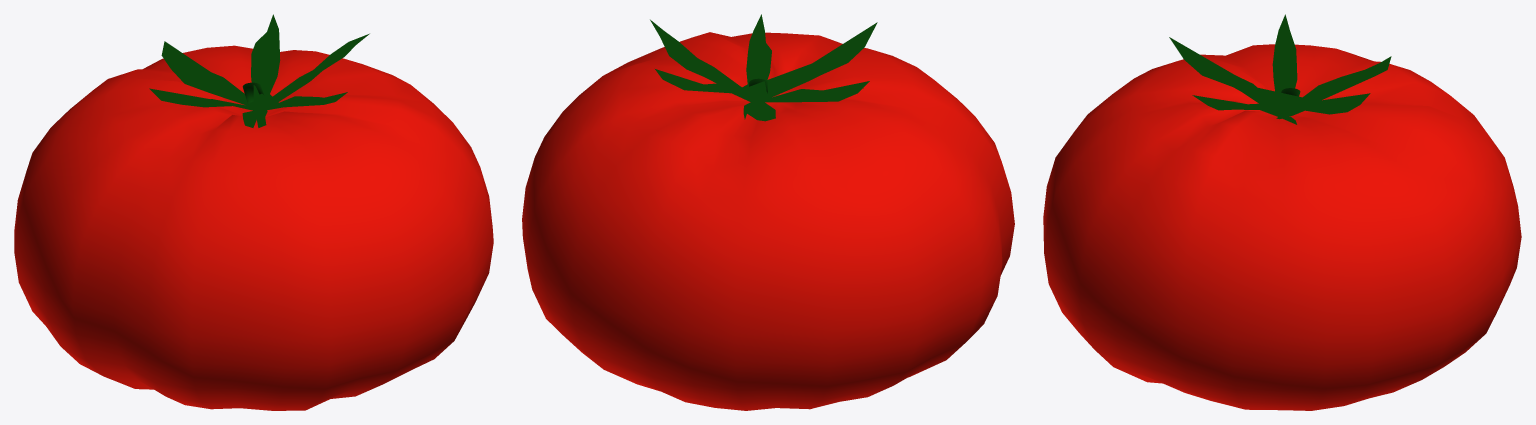
The model's file is tomato.fbx.
3 renders of one model, left to right at view 1: azimuth 30°, elevation 25°; view 2: azimuth 150°, elevation 25°; view 3: azimuth 270°, elevation 25°, orthographic. The views are drawn at different scales.
Visible parts, largest first — view 1: 球, 球.001; view 2: 球, 球.001; view 3: 球, 球.001.
Part boxes in pixels (left/top/right/bottom): 球: left=14, top=45, right=493, bottom=410; 球.001: left=149, top=14, right=369, bottom=127; 球: left=522, top=32, right=1014, bottom=410; 球.001: left=650, top=14, right=877, bottom=121; 球: left=1043, top=44, right=1521, bottom=410; 球.001: left=1169, top=14, right=1391, bottom=124.
Size of the model in its own units: 288 by 207 by 286.
